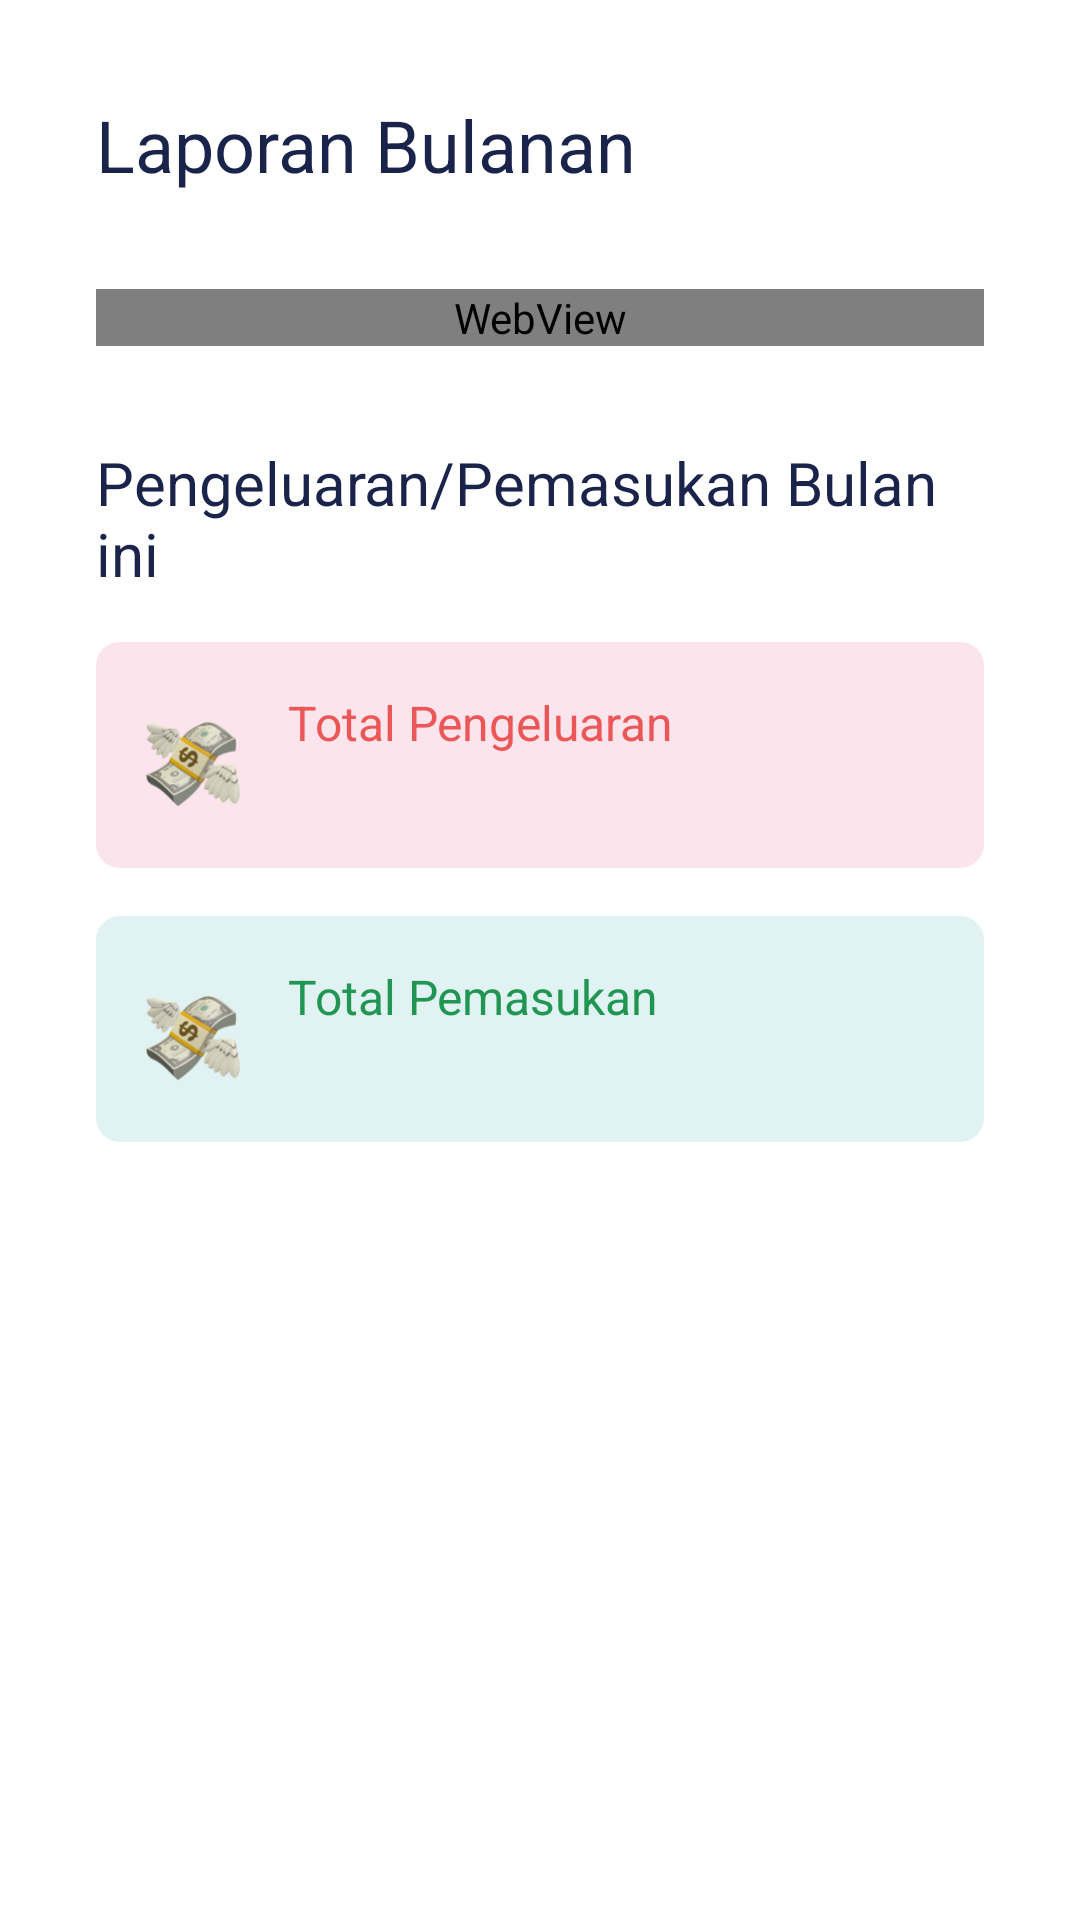

Named icons in this screenshot (1080*1920) and their centers, point (x, y):
uang: point (193, 764), point (193, 1038)
